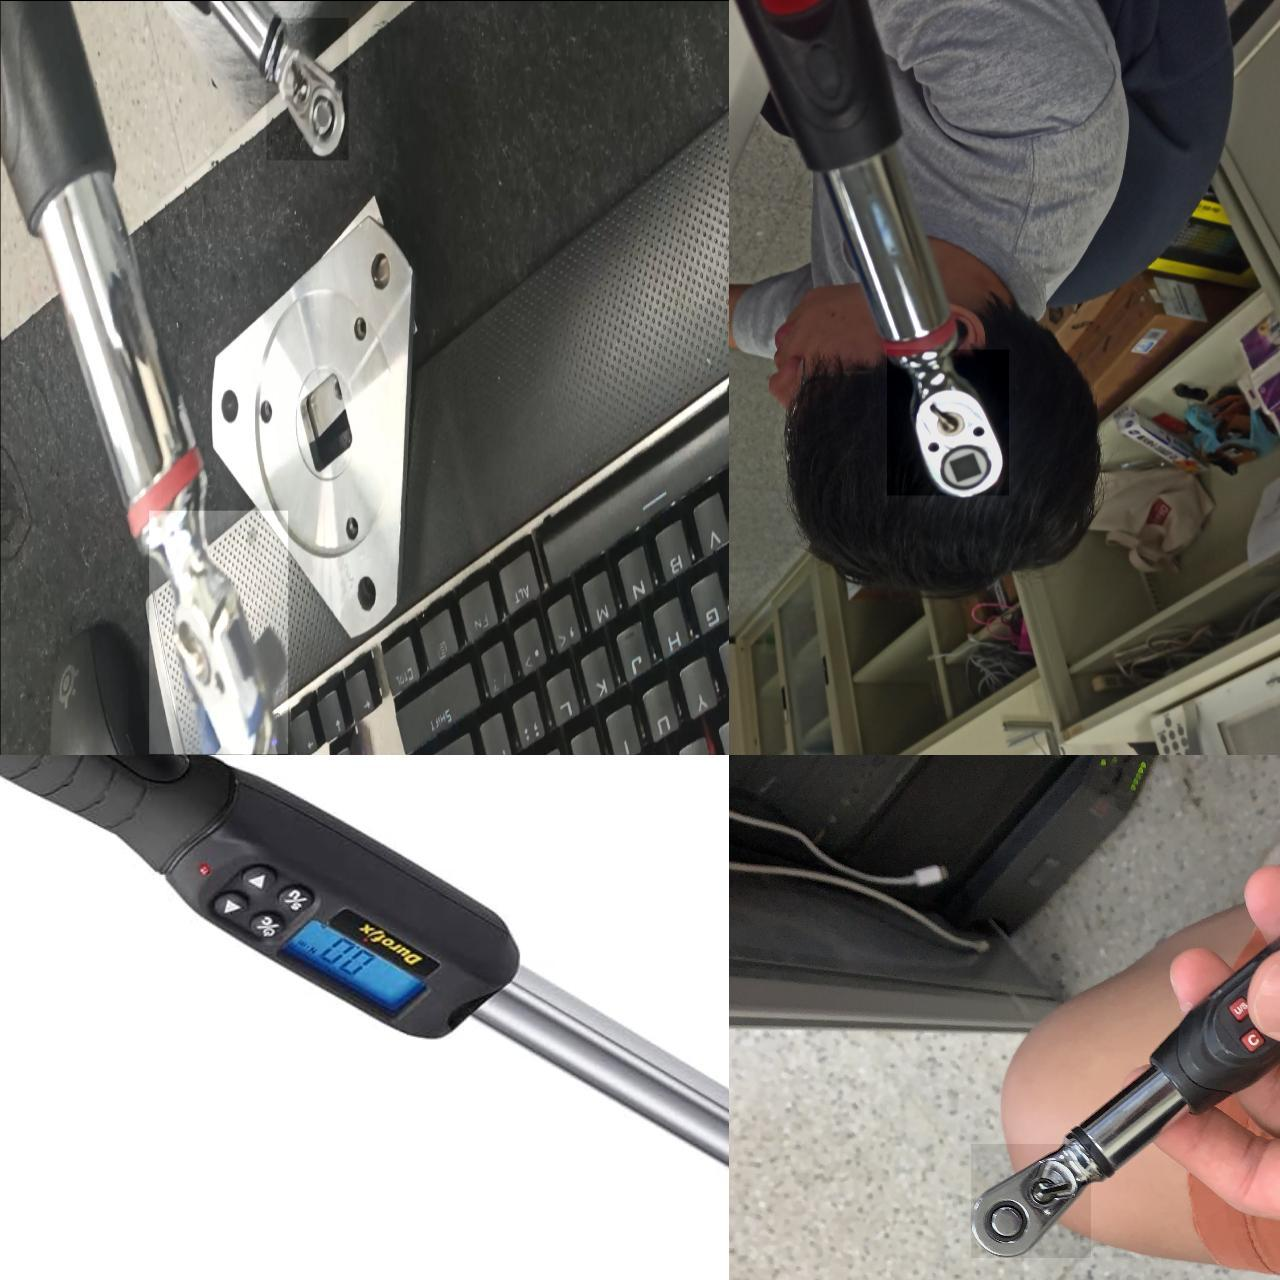Tool: (149, 510, 287, 754), (886, 349, 1008, 495), (971, 1143, 1090, 1257), (266, 16, 348, 159)
